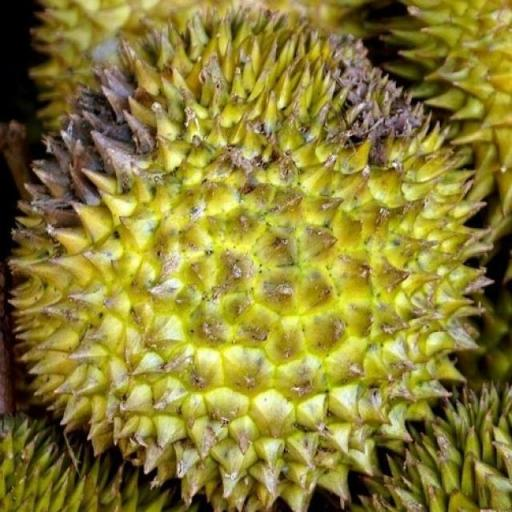rot: (9, 10, 512, 512)
